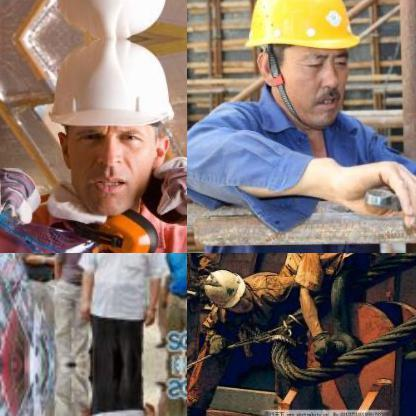Helmet: (35, 37, 184, 225), (231, 0, 371, 129), (34, 0, 186, 39), (200, 268, 254, 310)
